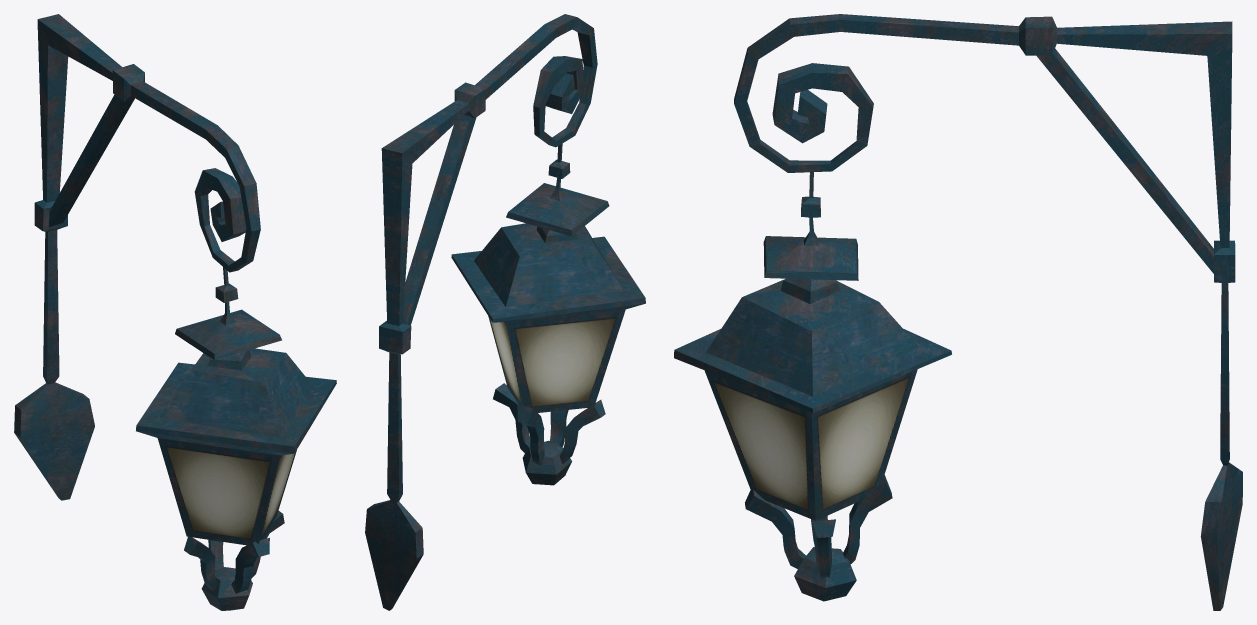
File: wallLight.fbx
3 views of the same model, side by side, from view 1: azimuth 30°, elevation 25°; view 2: azimuth 150°, elevation 25°; view 3: azimuth 270°, elevation 25° (orthographic). The views are drawn at different scales.
Parts seen in each view (by area): view 1: node_id38; view 2: node_id38; view 3: node_id38.
Boxes of the visible parts, <box> form: node_id38: <box>14,14,336,610</box>; node_id38: <box>365,14,645,610</box>; node_id38: <box>674,14,1242,610</box>.
Size of the model in its own units: 0.2199 by 0.512 by 0.4498.
1 material, 1 textured.
